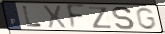F: (66, 3, 87, 31)
G: (135, 7, 158, 31)
L: (22, 5, 44, 28)
S: (112, 6, 136, 31)
X: (42, 4, 68, 30)
Z: (88, 6, 115, 30)
